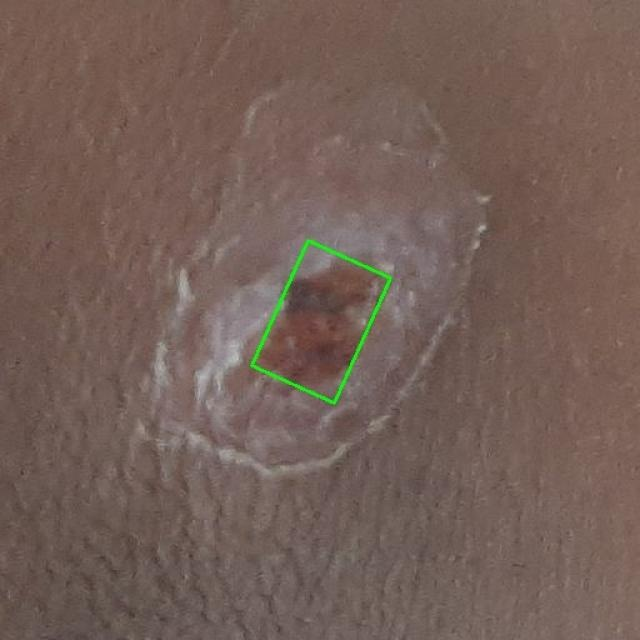Eczema: (252, 241, 391, 403)
